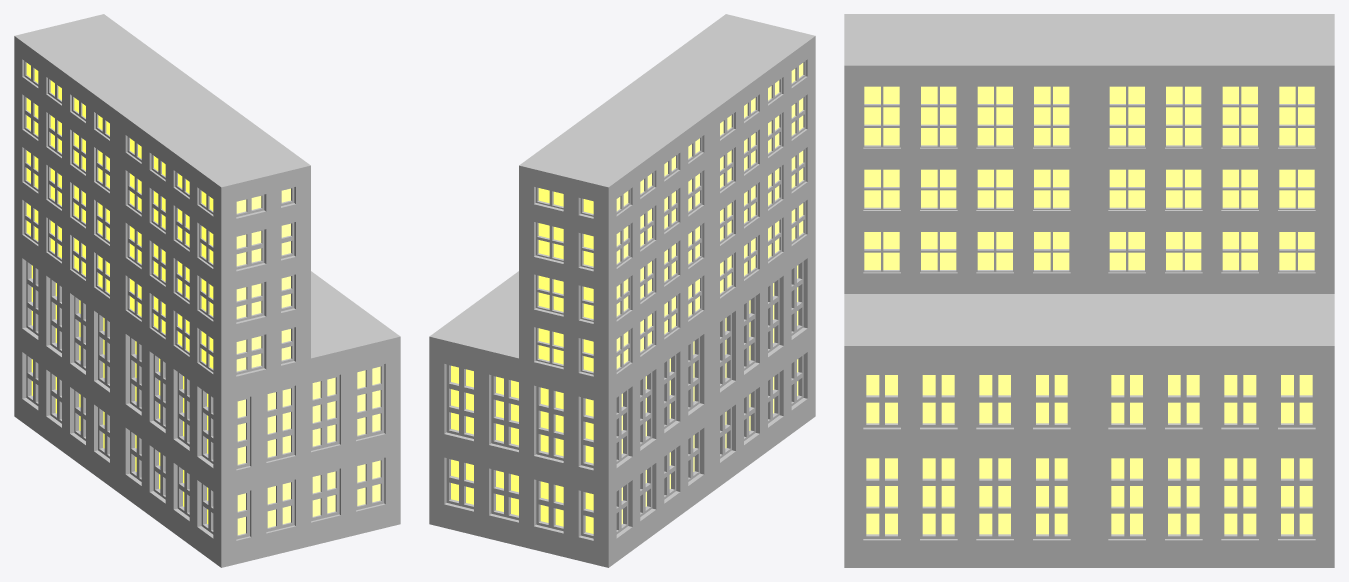
File: modular_tower_2.fbx
The picture shows the model from 3 angles, left to right: view 1: azimuth 30°, elevation 25°; view 2: azimuth 150°, elevation 25°; view 3: azimuth 270°, elevation 25°; orthographic projection. The views are drawn at different scales.
Visible parts, largest first — view 1: Cube; view 2: Cube; view 3: Cube.
Part boxes in pixels (x1,y1,x2,y2): Cube: [14, 14, 400, 567]; Cube: [429, 14, 815, 567]; Cube: [844, 14, 1334, 567].
Size of the model in its own units: 200 by 406 by 400.
